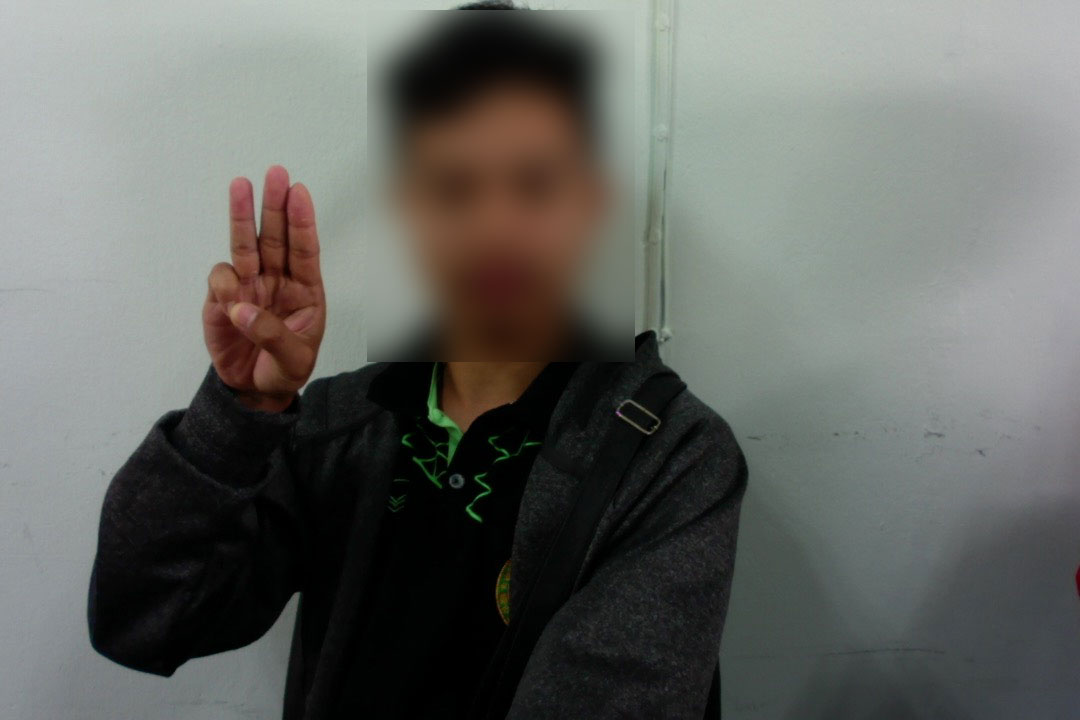wor: (194, 158, 334, 408)
